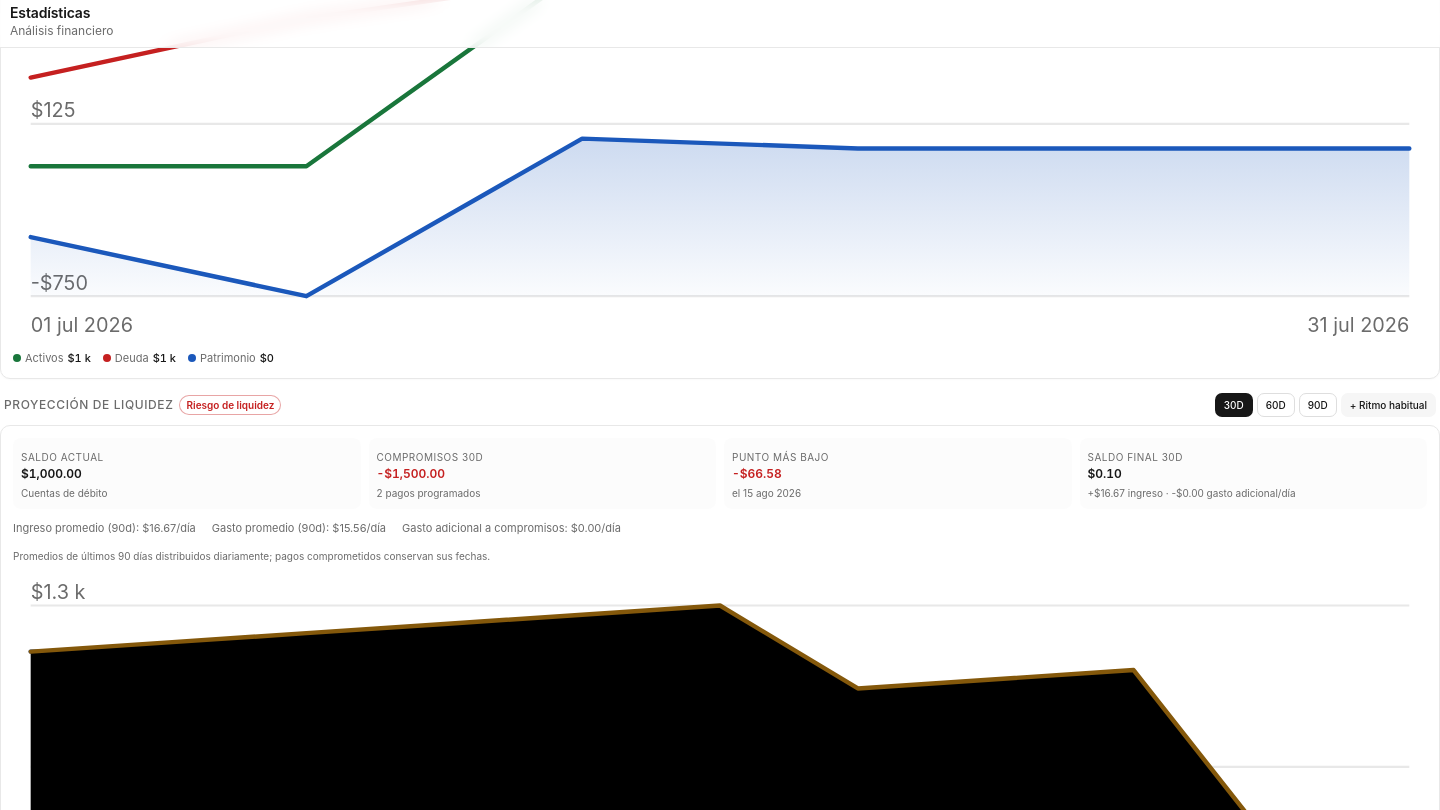
Test: StatsPage › renders the cash flow forecast section with horizon controls and schedule
(page scrolled)
Expected: the heading "Proyección de liquidez" is shown, [4,397,174,413]
Expected: the text "Ingreso promedio (90d): $16.67/día" is shown, [13,521,196,537]
Step 1. Click the button "+ Ritmo habitual" → (1388, 405), box [1341,393,1436,417]
(page scrolled)
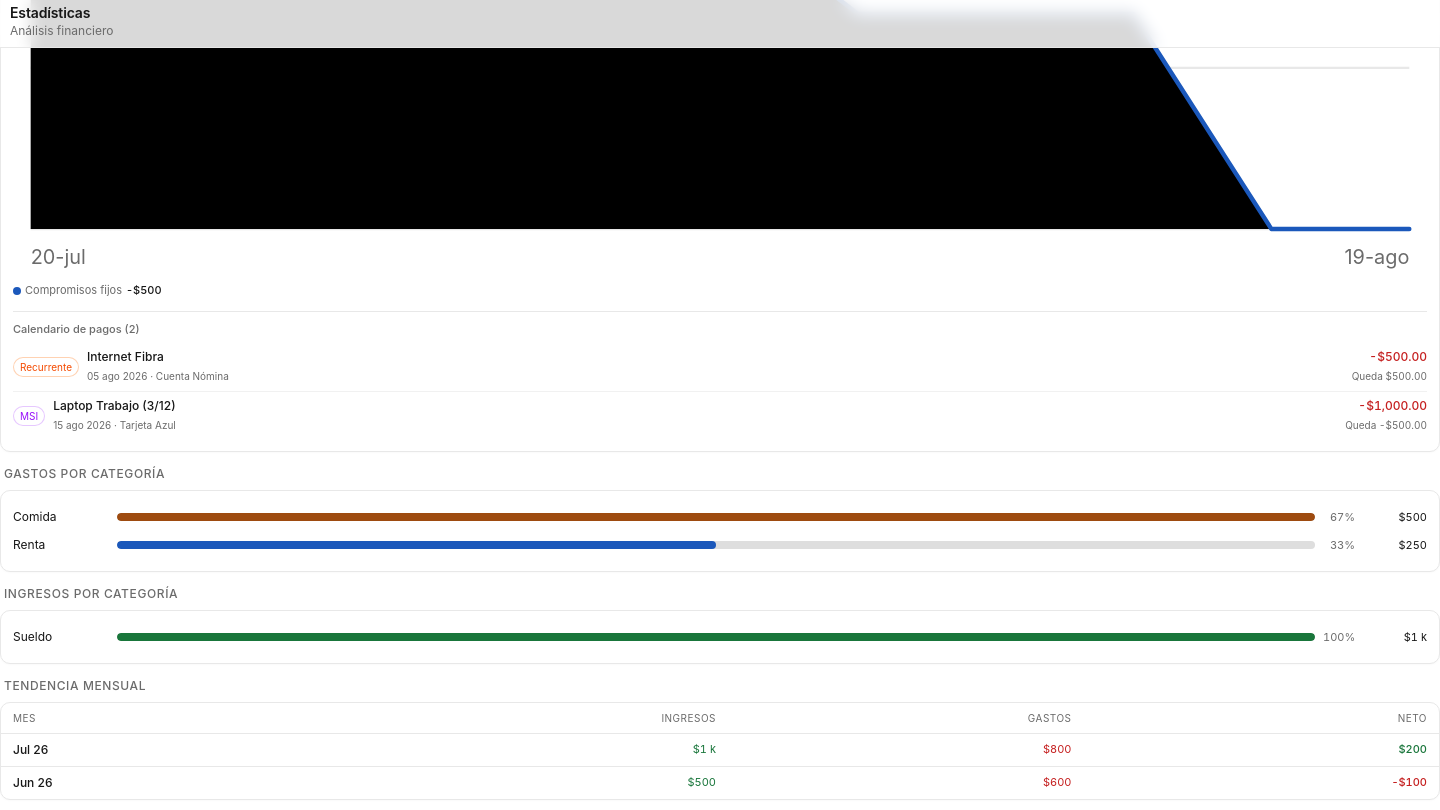
Expected: the text "Internet Fibra" is shown, [87,349,164,364]
Expected: the text "Gasto adicional a compromisos:" is gone
